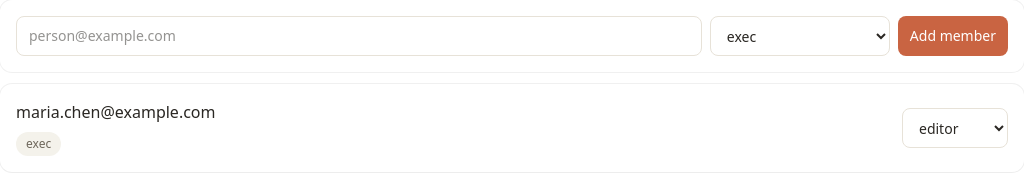
AccessMembers › offers known people in the add-member picker
Click the dropdown named "Member email" at [359, 36], box [16,16,702,56]
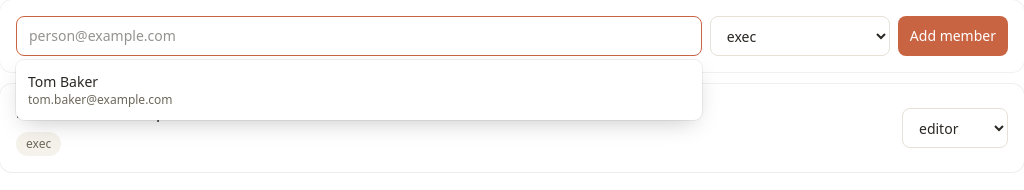
Check: the option "Tom Baker tom.baker@example.com" is shown, box [28,72,173,108]
